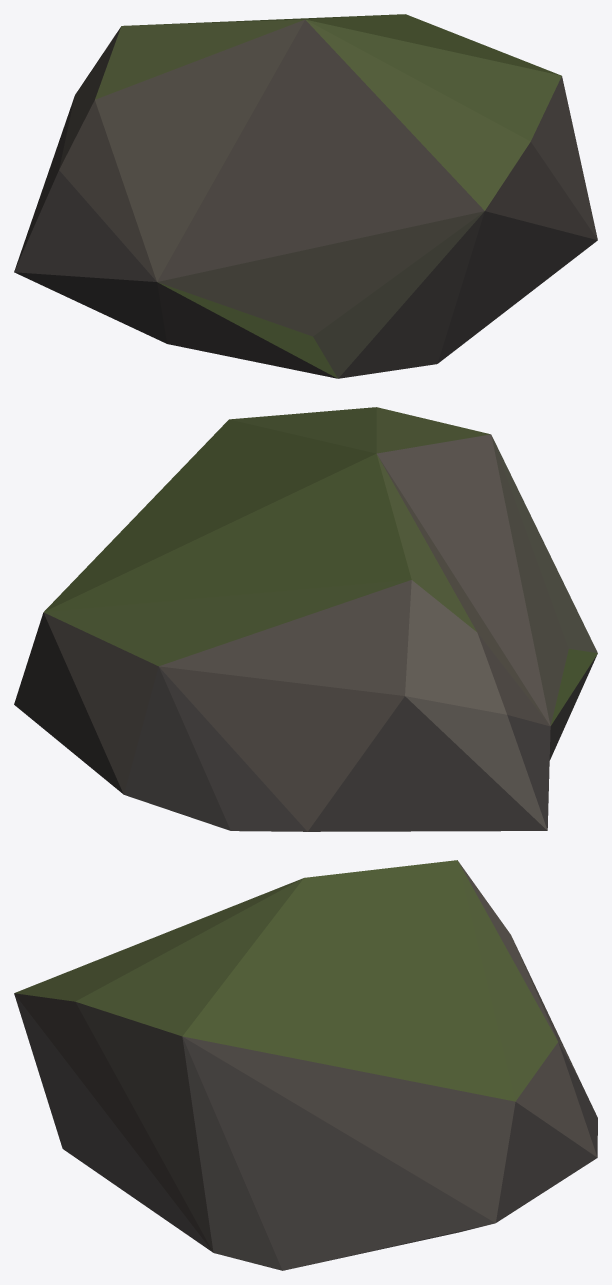
Rendered from boulder_large.glb.
3 views of the same model, one above another, from view 1: azimuth 30°, elevation 25°; view 2: azimuth 150°, elevation 25°; view 3: azimuth 270°, elevation 25° (orthographic). The views are drawn at different scales.
Parts seen in each view (by area): view 1: boulder_large; view 2: boulder_large; view 3: boulder_large.
Boxes of the visible parts, <box> form: boulder_large: <box>14,14,597,378</box>; boulder_large: <box>14,407,597,831</box>; boulder_large: <box>14,860,597,1270</box>.
Size of the model in its own units: 3.38 by 1.97 by 3.48.
